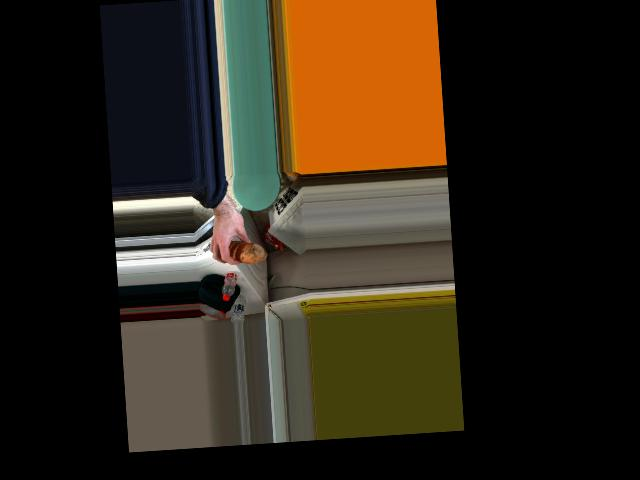sweet_potato: (224, 233, 258, 266)
